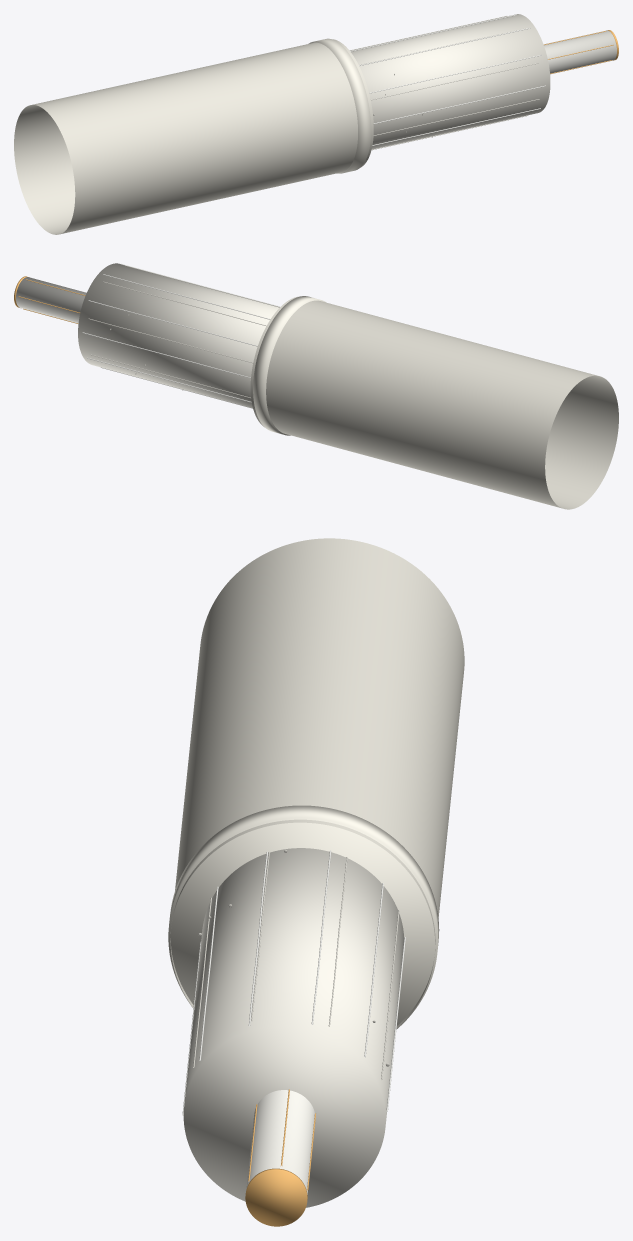
File: rf-ut086-macro.glb
3 renders of one model, top to bottom at view 1: azimuth 30°, elevation 25°; view 2: azimuth 150°, elevation 25°; view 3: azimuth 270°, elevation 25°, orthographic. The views are drawn at different scales.
Parts seen in each view (by area): view 1: macro semi rigid tube shield, macro PTFE dielectric core, polished solid center conductor, semi rigid tube cut rim; view 2: macro semi rigid tube shield, macro PTFE dielectric core, polished solid center conductor, semi rigid tube cut rim; view 3: macro semi rigid tube shield, macro PTFE dielectric core, semi rigid tube cut rim, polished solid center conductor, polished conductor cut face glow.
Part boxes in pixels (x1,y1,x2,y2): macro semi rigid tube shield: (14, 39, 373, 234); macro PTFE dielectric core: (350, 14, 550, 149); polished solid center conductor: (544, 30, 616, 73); semi rigid tube cut rim: (308, 38, 371, 173); macro semi rigid tube shield: (250, 296, 618, 509); macro PTFE dielectric core: (78, 263, 279, 408); polished solid center conductor: (16, 277, 86, 323); semi rigid tube cut rim: (253, 296, 326, 435); macro semi rigid tube shield: (170, 538, 464, 1028); macro PTFE dielectric core: (183, 848, 404, 1207); semi rigid tube cut rim: (168, 805, 439, 1029); polished solid center conductor: (246, 1090, 314, 1194); polished conductor cut face glow: (245, 1168, 307, 1226).
Bounding box in the file's own units: 3.63 × 0.7615 × 0.836.
